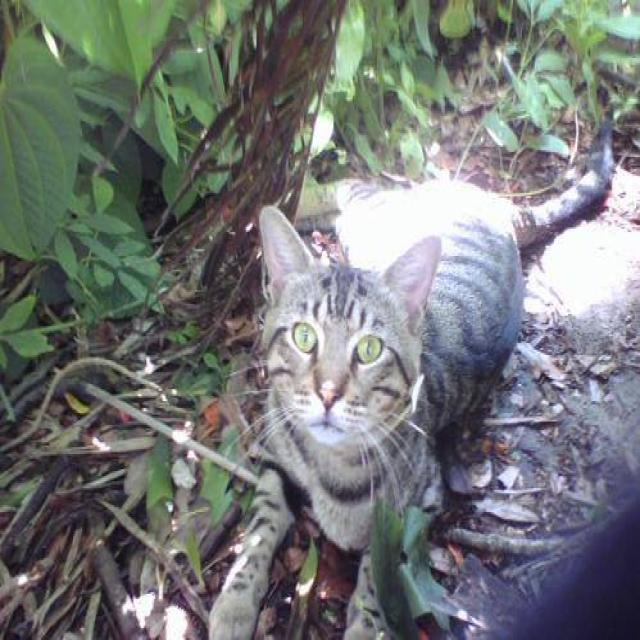cat: (205, 94, 616, 638)
